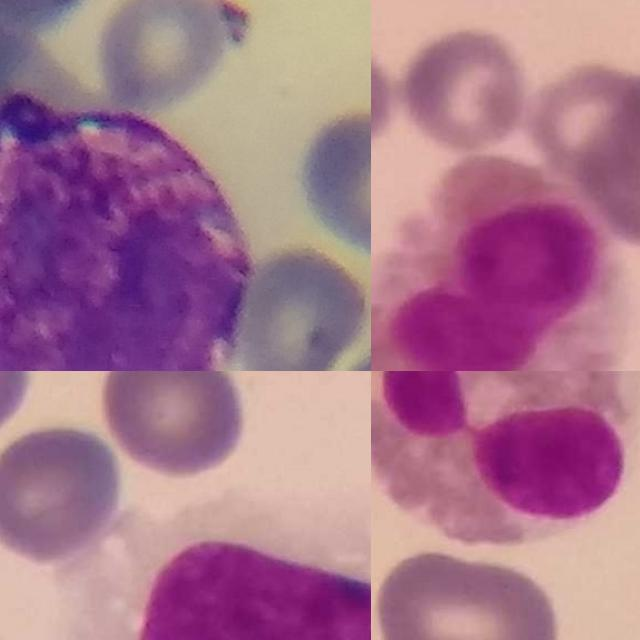Basophil: (0, 91, 251, 371)
Eosinophil: (371, 153, 620, 371), (371, 371, 640, 545)
Monocyte: (56, 509, 371, 640)
